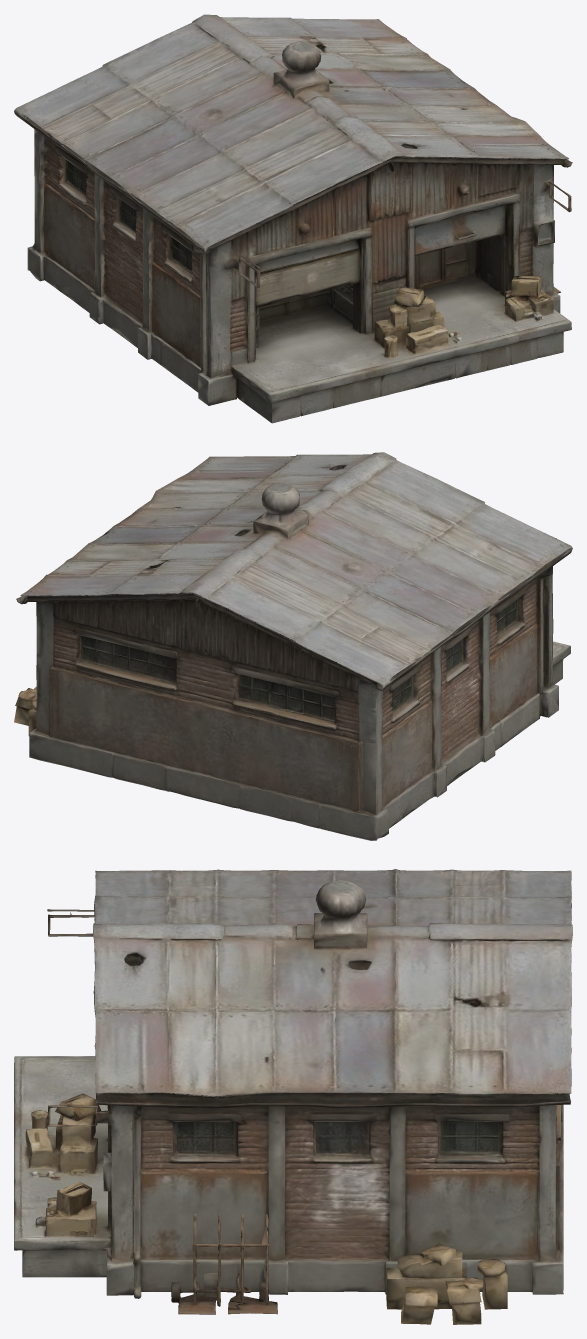
Rendered from transportadora.glb.
The picture shows the model from 3 angles, top to bottom: view 1: azimuth 30°, elevation 25°; view 2: azimuth 150°, elevation 25°; view 3: azimuth 270°, elevation 25°; orthographic projection. The views are drawn at different scales.
Parts seen in each view (by area): view 1: transportadora; view 2: transportadora; view 3: transportadora.
Boxes of the visible parts, <box> form: transportadora: <box>14,14,572,423</box>; transportadora: <box>14,452,572,840</box>; transportadora: <box>14,869,572,1324</box>.
Bounding box in the file's own units: 15 × 8.68 × 14.2.
Materials: 1 (1 with a texture image).
